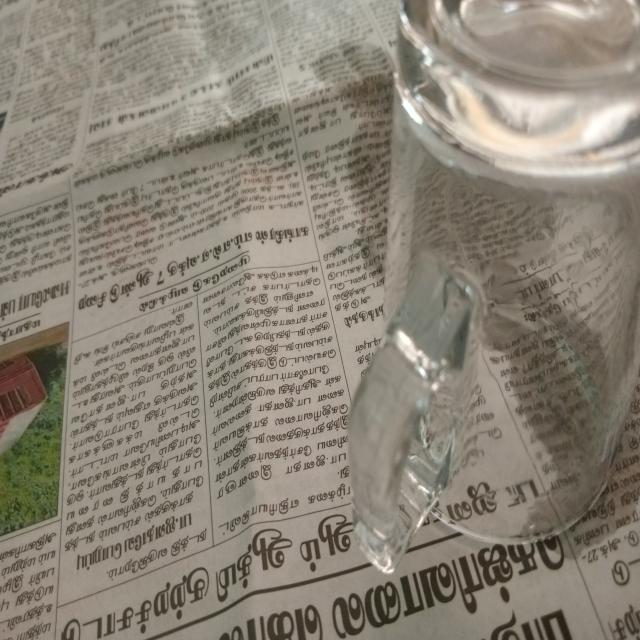glass-VX4N: (335, 0, 640, 590)
